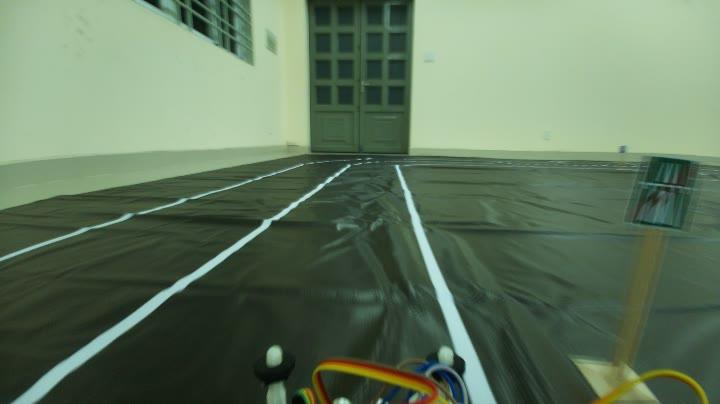highway_exit: (612, 146, 701, 237)
